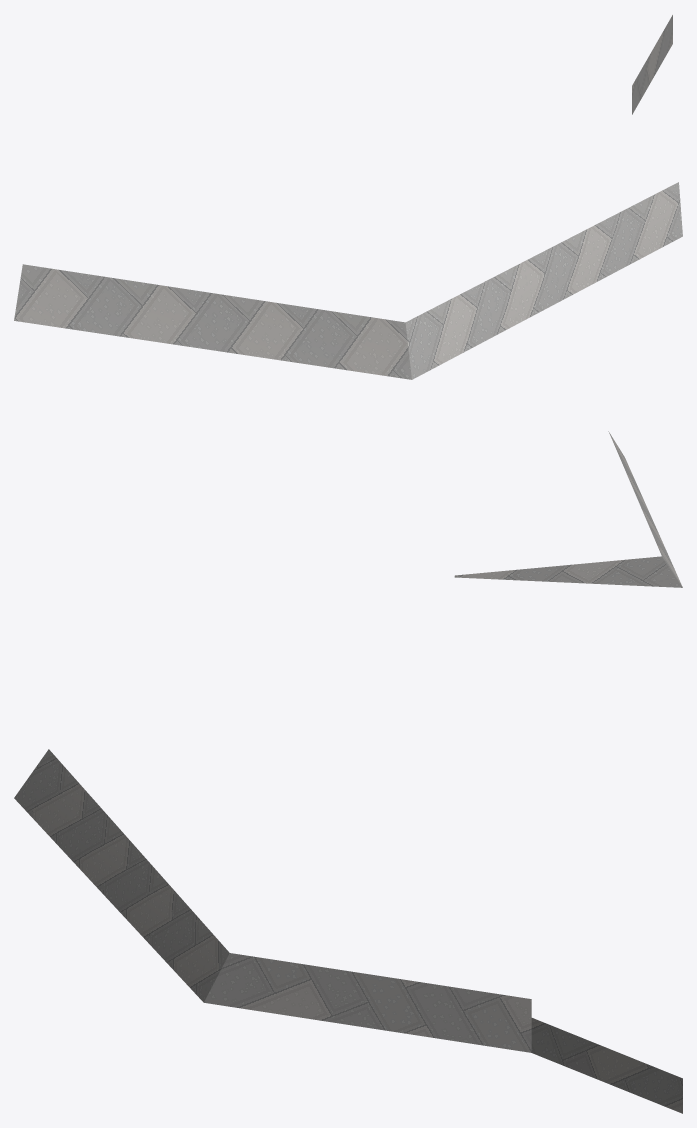
Rendered from kd_stage_135fe0_5_76_bounded.glb.
The picture shows the model from 3 angles, top to bottom: view 1: azimuth 30°, elevation 25°; view 2: azimuth 150°, elevation 25°; view 3: azimuth 270°, elevation 25°; orthographic projection. The views are drawn at different scales.
Visible parts, largest first — view 1: kd_stage_135fe0_5_76_bounded; view 2: kd_stage_135fe0_5_76_bounded; view 3: kd_stage_135fe0_5_76_bounded.
Boxes of the visible parts, x1,y1,x2,y2 form: kd_stage_135fe0_5_76_bounded: [14, 15, 682, 379]; kd_stage_135fe0_5_76_bounded: [454, 431, 682, 587]; kd_stage_135fe0_5_76_bounded: [14, 749, 682, 1113].
Size of the model in its own units: 7.7 by 0.4249 by 4.79.
1 material, 1 textured.
